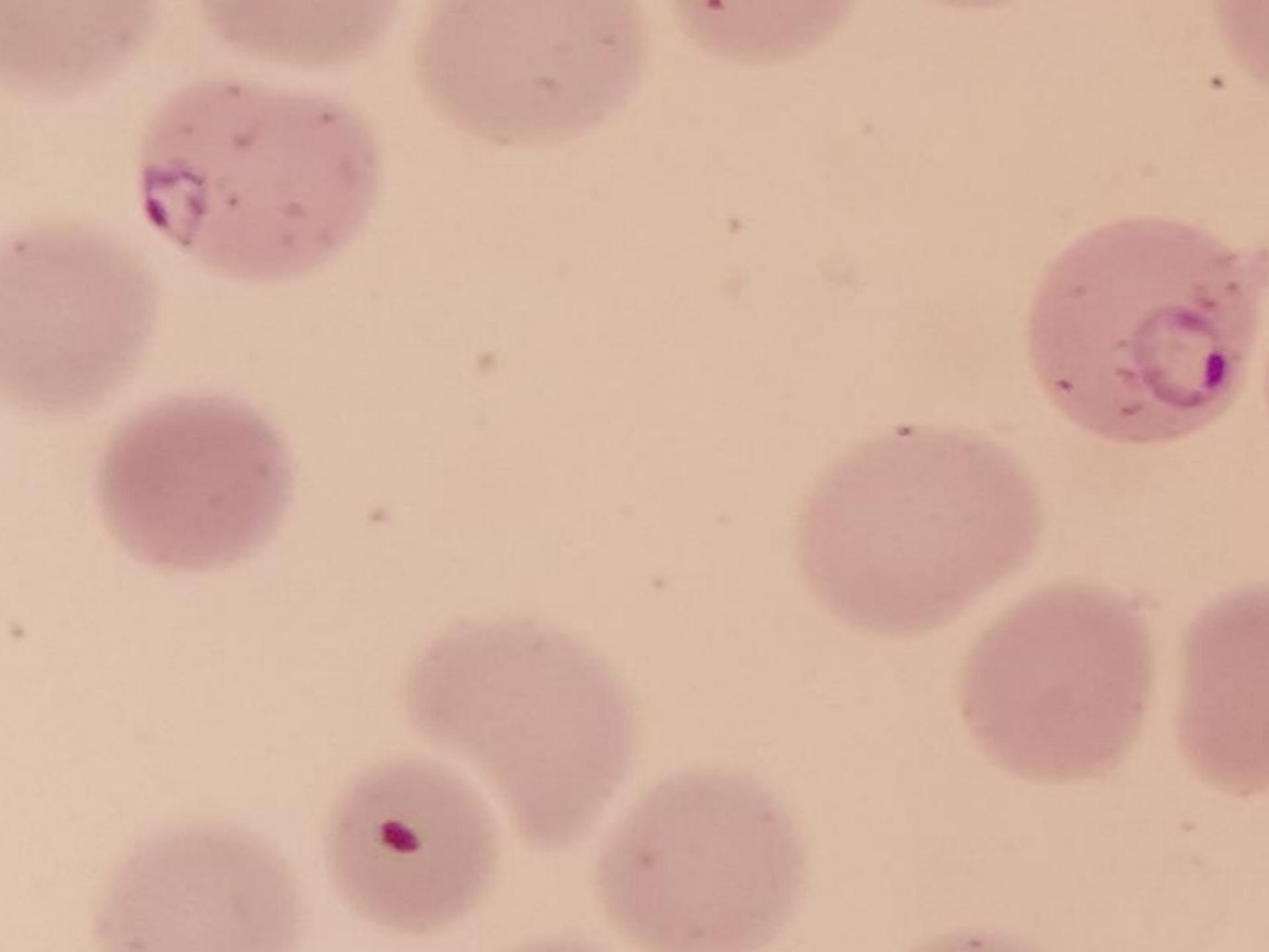Infected: (1028, 212, 1258, 442), (132, 76, 384, 284)
Uninfected: (411, 623, 642, 845), (796, 426, 1040, 634), (601, 773, 802, 952), (965, 585, 1150, 777), (97, 395, 293, 568), (415, 0, 642, 147), (0, 217, 160, 413), (330, 758, 498, 929), (101, 824, 302, 952)
